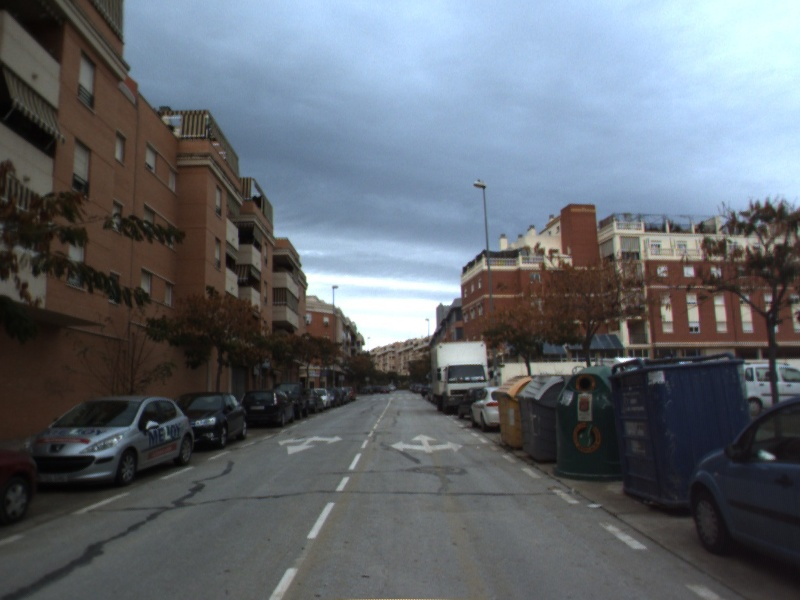STRAIGHT_LEFT_RIGHT: (388, 431, 465, 455)
